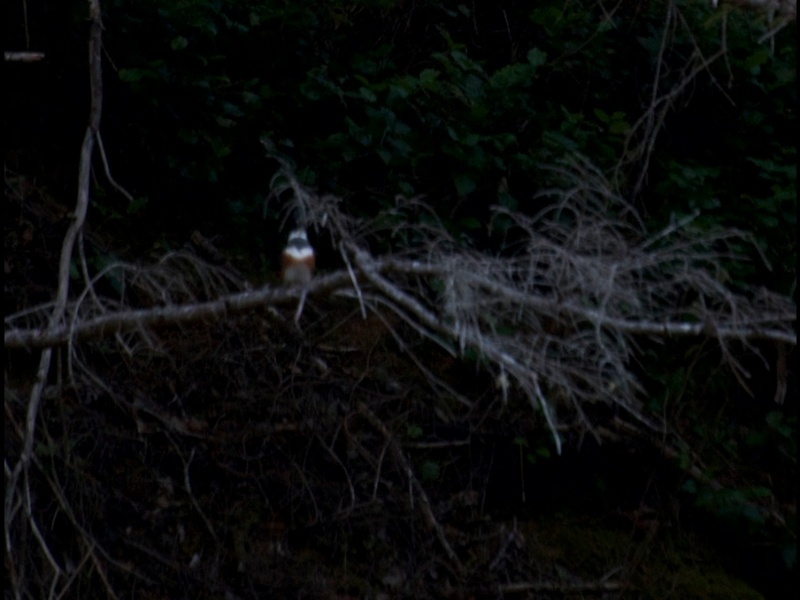kingfisher: (284, 224, 315, 310)
